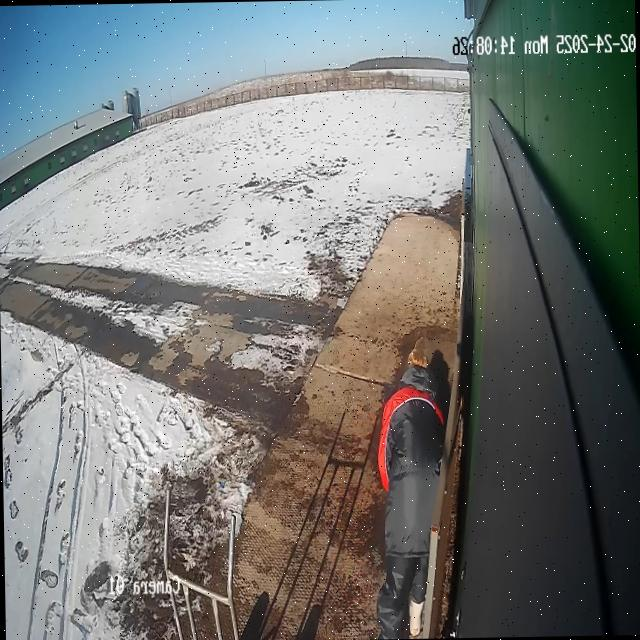Red uniform: (377, 348, 446, 638)
